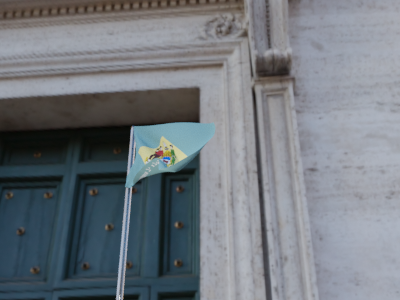Delaware flag: (128, 122, 218, 190)
